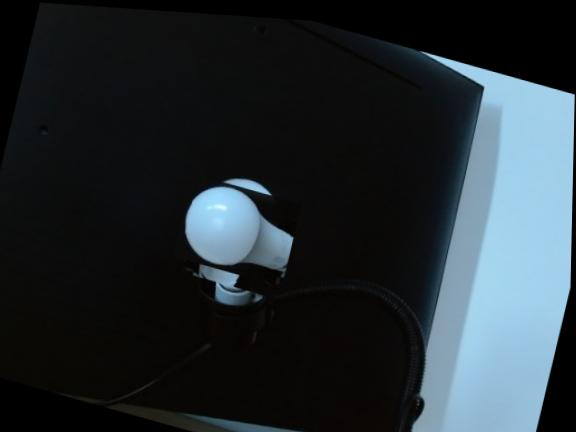Fan: (178, 165, 299, 290)
